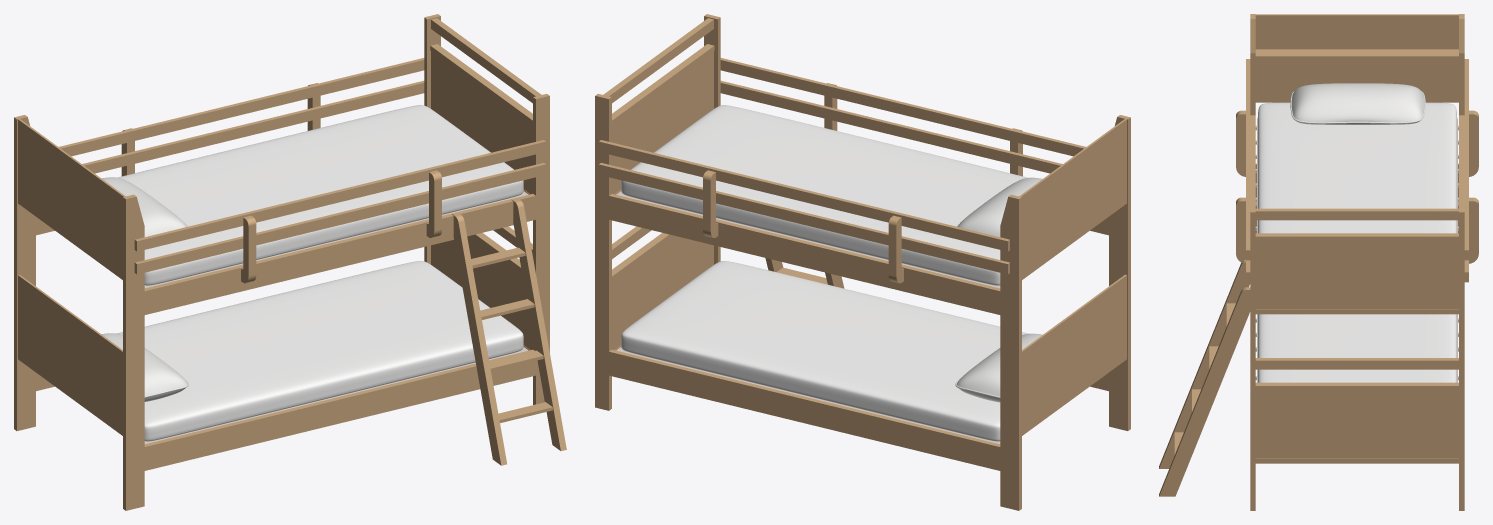
Rendered from 685_二段ベッド.glb.
3 views of the same model, side by side, from view 1: azimuth 30°, elevation 25°; view 2: azimuth 150°, elevation 25°; view 3: azimuth 270°, elevation 25° (orthographic). The views are drawn at different scales.
Parts seen in each view (by area): view 1: Body, mattress2, mattress1, radder, pillow2, pillow1; view 2: Body, mattress2, mattress1, pillow2, pillow1, radder; view 3: Body, mattress1, mattress2, radder, pillow1.
Part boxes in pixels (x1,y1,x2,y2): Body: (14, 14, 549, 510); mattress2: (117, 261, 523, 441); mattress1: (118, 105, 523, 285); radder: (452, 198, 566, 465); pillow2: (102, 333, 188, 401); pillow1: (101, 177, 187, 236); Body: (595, 14, 1130, 510); mattress2: (621, 261, 1027, 441); mattress1: (621, 105, 1028, 285); pillow2: (955, 333, 1042, 402); pillow1: (956, 177, 1042, 236); radder: (765, 258, 844, 288); Body: (1236, 14, 1478, 510); mattress1: (1257, 102, 1457, 233); mattress2: (1257, 314, 1457, 382); radder: (1159, 259, 1250, 496); pillow1: (1290, 83, 1425, 124).
Size of the model in its own units: 2.14 by 1.5 by 1.46.
